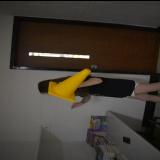cone: (48, 67, 92, 101)
